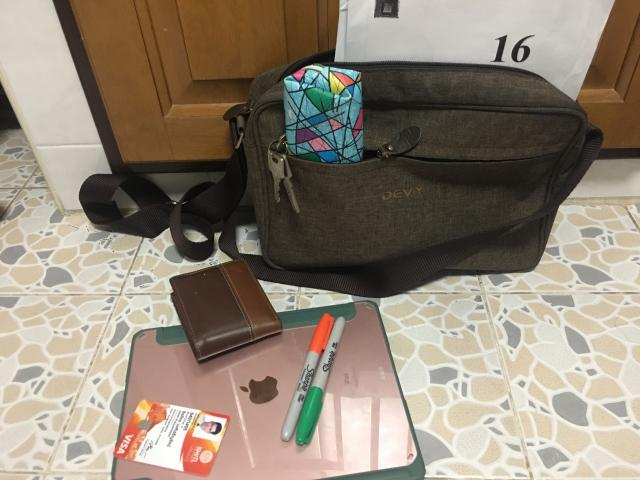Keys: (268, 134, 300, 212)
Pen: (281, 312, 334, 441), (296, 316, 345, 445)
Wallet: (170, 260, 282, 362)
